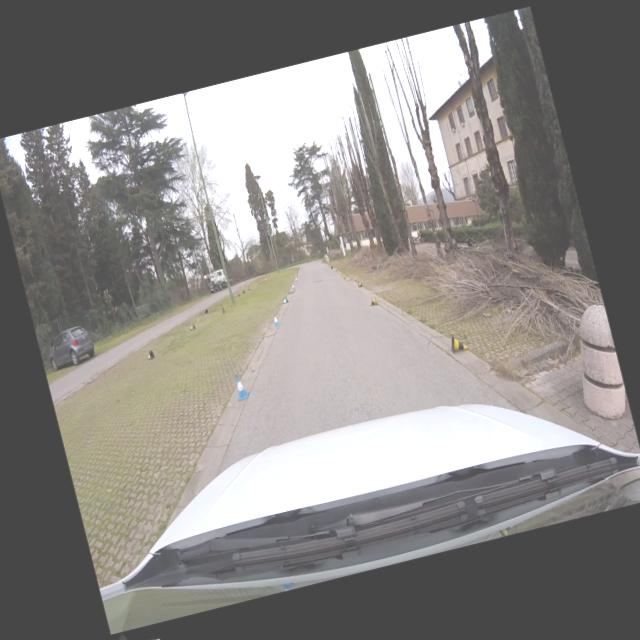blue_cone: (230, 372, 250, 400), (271, 312, 280, 326), (281, 296, 288, 304), (290, 283, 294, 288)
orange_cone: (146, 349, 154, 359), (188, 322, 195, 329)
unknown_cone: (220, 304, 226, 312), (204, 309, 208, 314), (247, 285, 251, 290), (330, 266, 332, 268)
yellow_cone: (448, 332, 468, 354), (368, 296, 378, 306), (357, 280, 364, 286), (342, 274, 347, 280)
